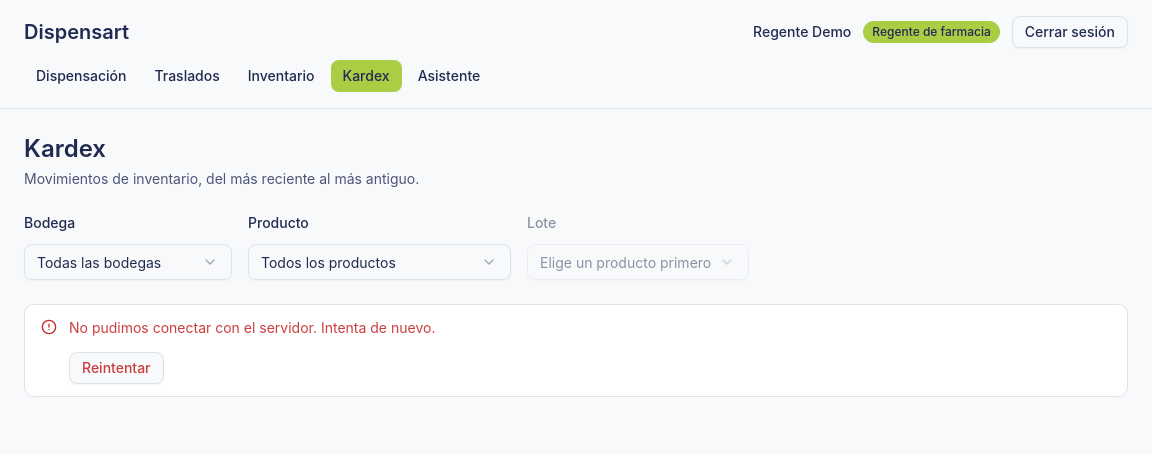
Test: pantalla Kardex › Fallo de la consulta: mensaje de red con "Reintentar" que repite la consulta
Expected: the message shows "No pudimos conectar con el servidor. Intenta de nuevo.", [69,319,435,336]
What coordinates should you click on to do the following:
click the button "Reintentar"
I would click on:
 (116, 368)
Its box is [69,352,164,384].
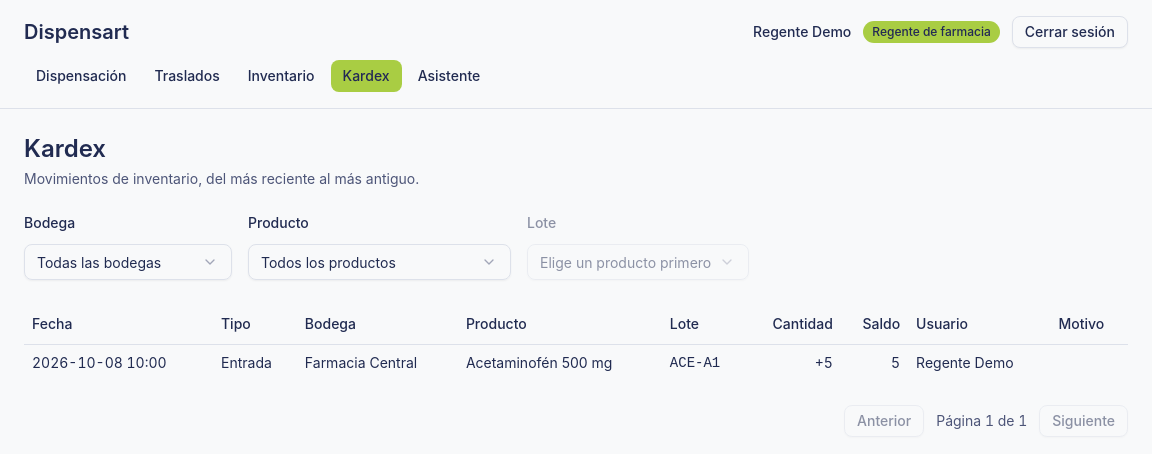
Result: the table is shown at [24,304,1128,381]
